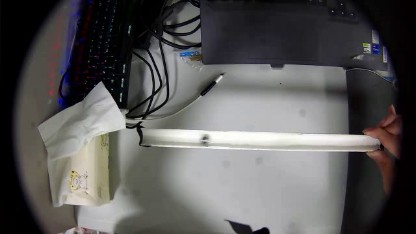gangzhu: (200, 133, 208, 143)
